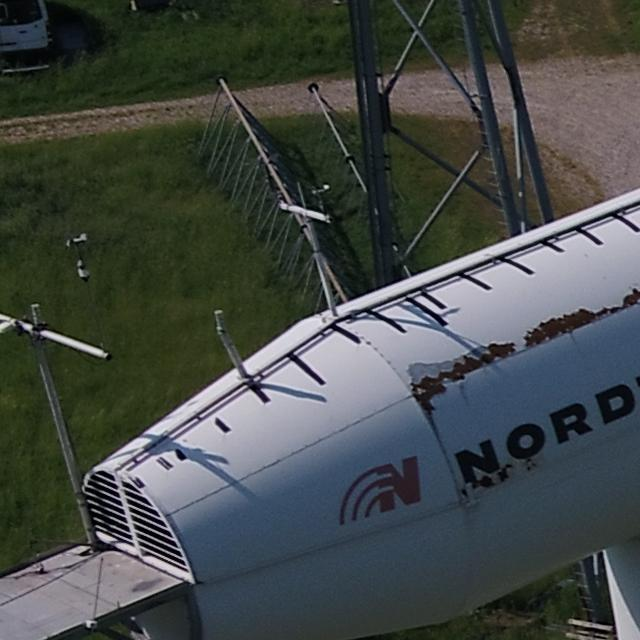damage: (517, 281, 638, 354), (405, 340, 520, 410), (476, 473, 497, 492), (498, 462, 512, 483)
